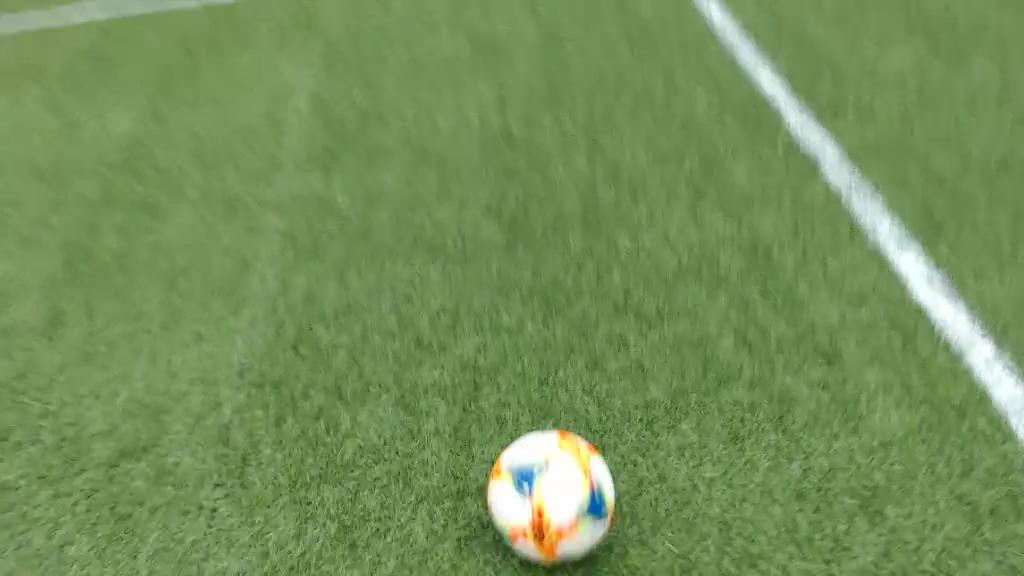ball: (487, 428, 613, 566)
